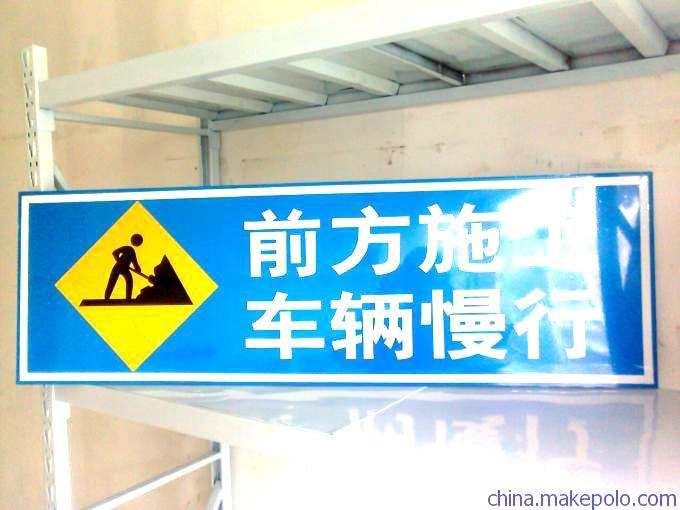sign: (16, 192, 649, 383)
